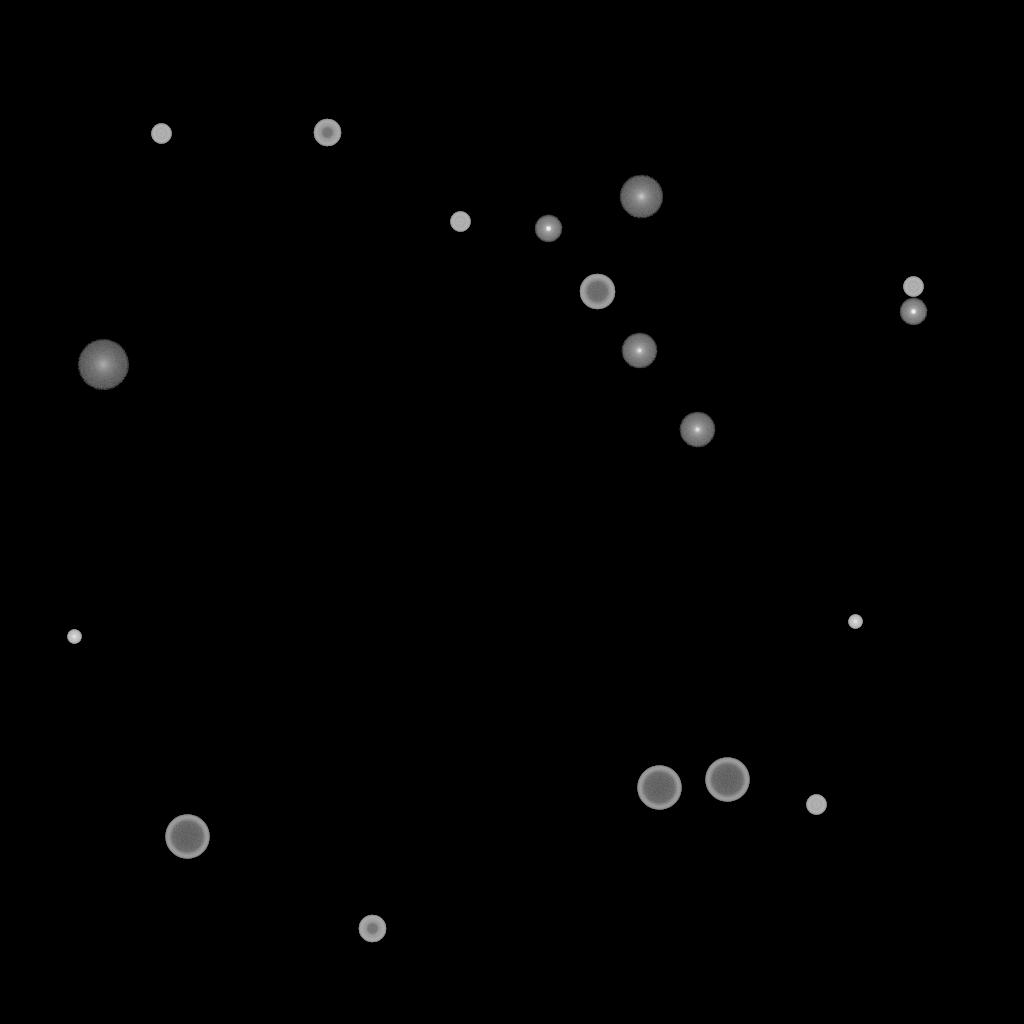depth:-10: (534, 215, 562, 243), (899, 298, 927, 326)
depth:-30: (848, 615, 862, 629), (67, 630, 81, 644)
depth:-40: (450, 212, 470, 232), (806, 795, 826, 815), (903, 277, 923, 297), (151, 124, 171, 144)
depth:-50: (358, 915, 386, 943), (313, 119, 341, 147)
depth:-60: (579, 274, 615, 310)
depth:-70: (637, 766, 681, 810), (705, 758, 749, 802), (165, 815, 209, 859)
depth:0: (679, 412, 715, 448), (621, 333, 657, 369)
depth:10: (619, 175, 663, 219)
depth:20: (77, 340, 129, 390)
